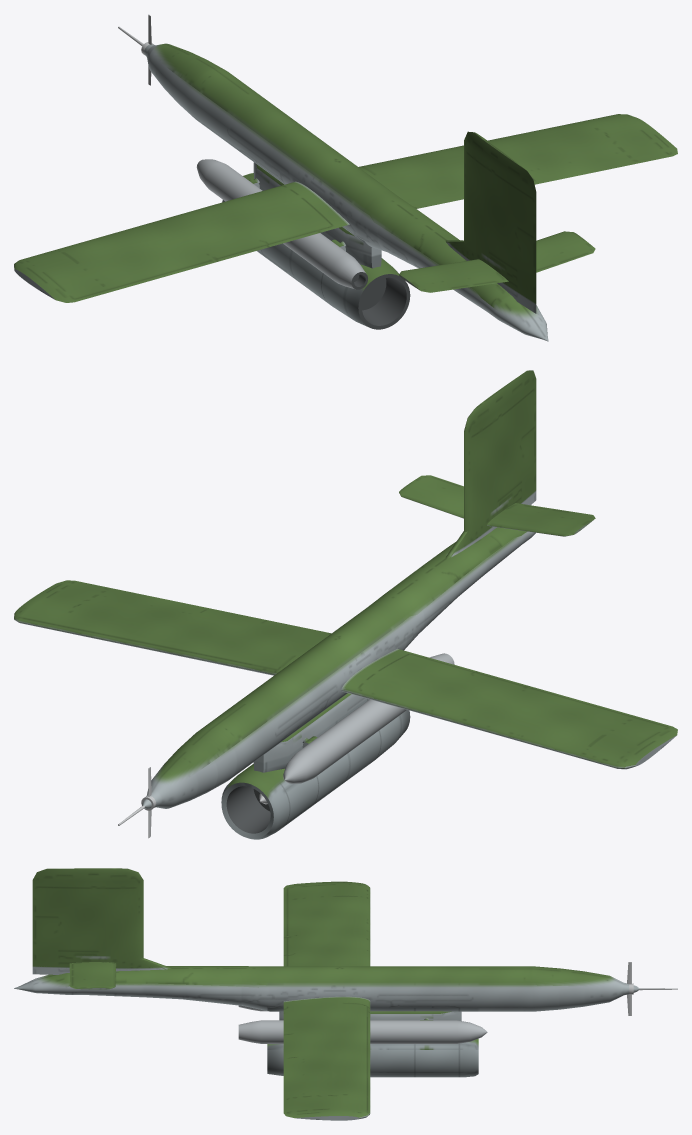
The picture shows the model from 3 angles, top to bottom: view 1: azimuth 30°, elevation 25°; view 2: azimuth 150°, elevation 25°; view 3: azimuth 270°, elevation 25°; orthographic projection. The views are drawn at different scales.
Parts seen in each view (by area): view 1: fuselage, wing_L, wing_R, fin, booster_L, nacelle, stabiliser_L, nozzle_inner, stabiliser_R, nacelle_pylon; view 2: fuselage, wing_L, wing_R, fin, nacelle, booster_L, stabiliser_L, nacelle_pylon, stabiliser_R, intake_duct, intake_lip; view 3: fuselage, fin, wing_R, wing_L, nacelle, booster_R, stabiliser_R, nacelle_pylon.
Boxes of the visible parts, x1,y1,x2,y2 form: fuselage: [144, 43, 548, 341]; wing_L: [14, 181, 349, 302]; wing_R: [358, 114, 677, 208]; fin: [445, 131, 536, 313]; booster_L: [196, 159, 365, 288]; nacelle: [222, 173, 399, 326]; stabiliser_L: [399, 259, 508, 292]; nozzle_inner: [358, 274, 410, 329]; stabiliser_R: [536, 231, 595, 272]; nacelle_pylon: [253, 162, 381, 268]; fuselage: [142, 527, 535, 808]; wing_L: [341, 648, 677, 769]; wing_R: [14, 580, 331, 675]; fin: [445, 370, 536, 558]; nacelle: [221, 710, 410, 839]; booster_L: [283, 653, 454, 783]; stabiliser_L: [487, 503, 595, 536]; nacelle_pylon: [253, 693, 369, 772]; stabiliser_R: [399, 475, 463, 518]; intake_duct: [226, 786, 270, 833]; intake_lip: [221, 782, 273, 838]; fuselage: [14, 966, 639, 1011]; fin: [32, 868, 171, 974]; wing_R: [283, 996, 370, 1120]; wing_L: [283, 881, 370, 966]; nacelle: [267, 1038, 478, 1077]; booster_R: [238, 1020, 487, 1043]; stabiliser_R: [69, 962, 116, 989]; nacelle_pylon: [279, 1011, 461, 1020].
Bounding box in the file's own units: 7.48 × 3.07 × 8.96.
5 materials, 2 textured.
